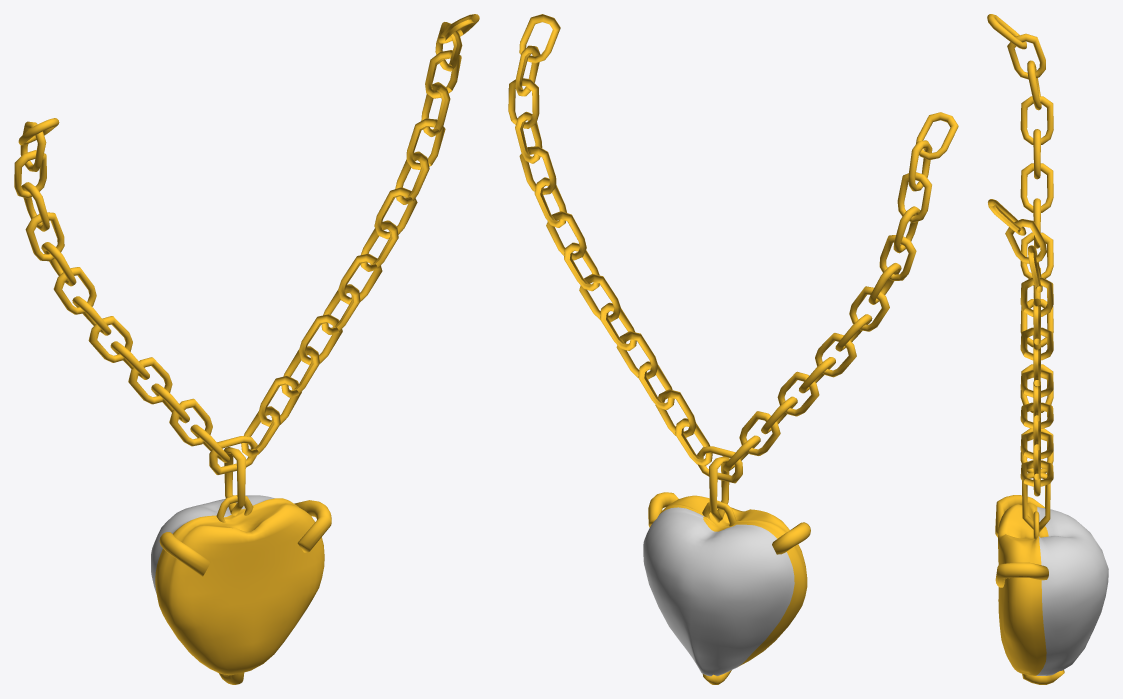
The model's file is neclaceu1.glb.
3 views of the same model, side by side, from view 1: azimuth 30°, elevation 25°; view 2: azimuth 150°, elevation 25°; view 3: azimuth 270°, elevation 25° (orthographic). The views are drawn at different scales.
Parts seen in each view (by area): view 1: Sphere, Sphere.002, Sphere.097; view 2: Sphere, Sphere.002, Sphere.097; view 3: Sphere, Sphere.002, Sphere.097.
Part boxes in pixels (<box>): Sphere: <box>151,495,324,675</box>; Sphere.002: <box>14,14,479,515</box>; Sphere.097: <box>159,495,331,684</box>; Sphere: <box>643,495,807,676</box>; Sphere.002: <box>508,14,958,522</box>; Sphere.097: <box>648,492,810,684</box>; Sphere: <box>998,502,1108,675</box>; Sphere.002: <box>987,14,1053,532</box>; Sphere.097: <box>995,495,1064,684</box>.
Bounding box in the file's own units: 1.1 × 1.47 × 0.2808.
